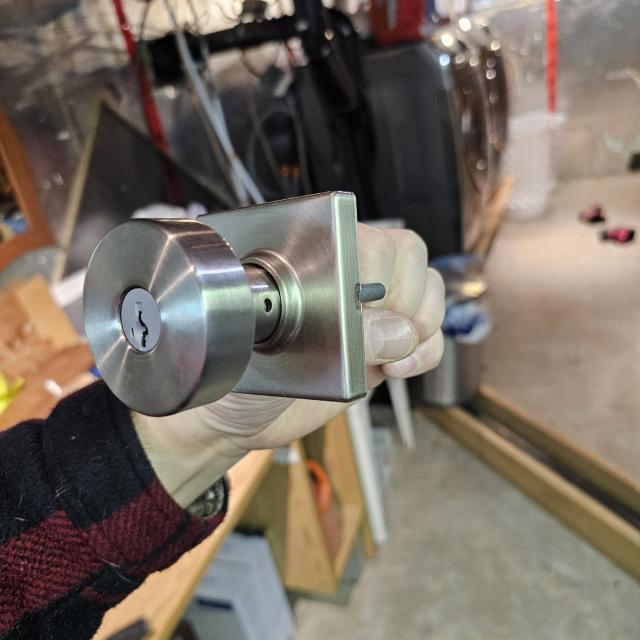door-knob: (84, 191, 382, 416)
